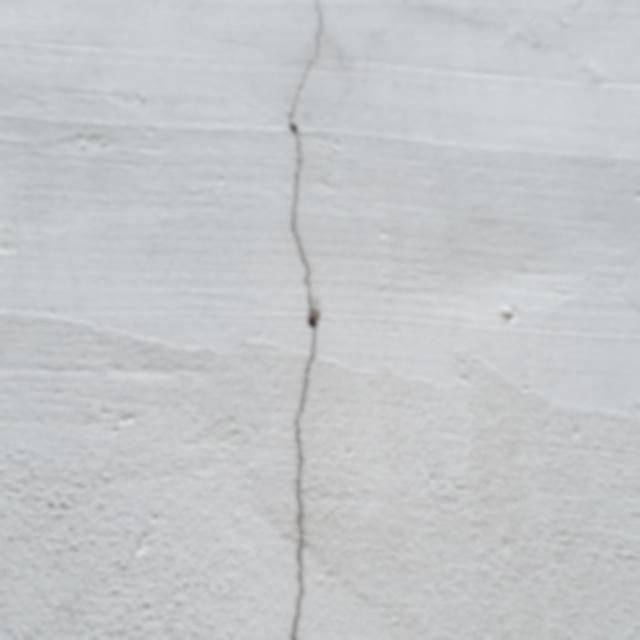SurfaceCrack: (246, 92, 364, 639)
